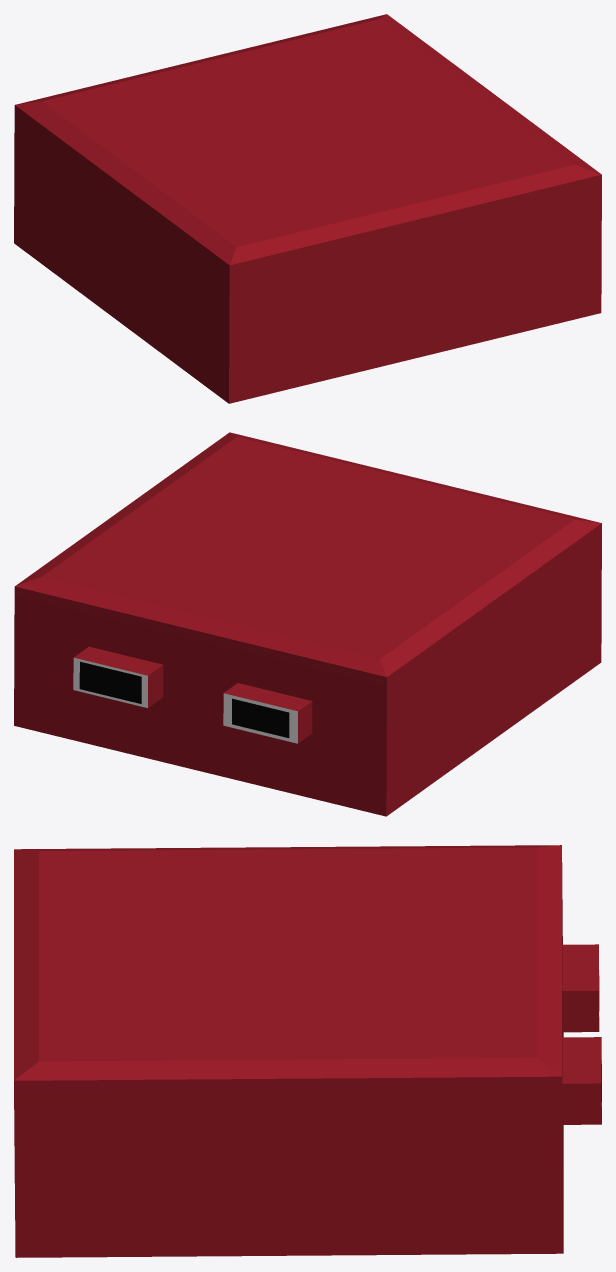
Rendered from Slime.fbx.
3 views of the same model, one above another, from view 1: azimuth 30°, elevation 25°; view 2: azimuth 150°, elevation 25°; view 3: azimuth 270°, elevation 25° (orthographic). The views are drawn at different scales.
Visible parts, largest first — view 1: Slime; view 2: Slime; view 3: Slime.
Part boxes in pixels (left/top/right/bottom): Slime: left=14, top=14, right=601, bottom=403; Slime: left=14, top=432, right=601, bottom=816; Slime: left=14, top=845, right=601, bottom=1257.
Size of the model in its own units: 200 by 76.26 by 215.
